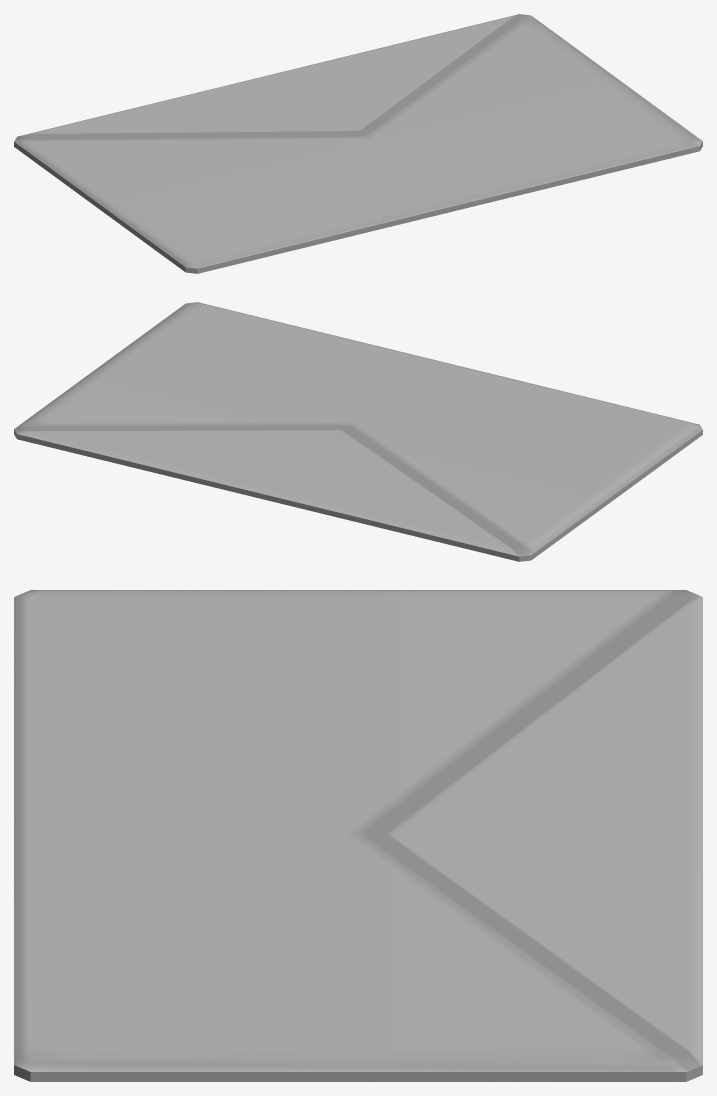
Rendered from envelope.glb.
The picture shows the model from 3 angles, top to bottom: view 1: azimuth 30°, elevation 25°; view 2: azimuth 150°, elevation 25°; view 3: azimuth 270°, elevation 25°; orthographic projection. The views are drawn at different scales.
Parts seen in each view (by area): view 1: pCube1; view 2: pCube1; view 3: pCube1.
Boxes of the visible parts, x1,y1,x2,y2 form: pCube1: (14,14,702,273); pCube1: (14,302,702,561); pCube1: (14,590,702,1081).
Size of the model in its own units: 0.0214 by 0.000412 by 0.013.
1 material, 1 textured.
